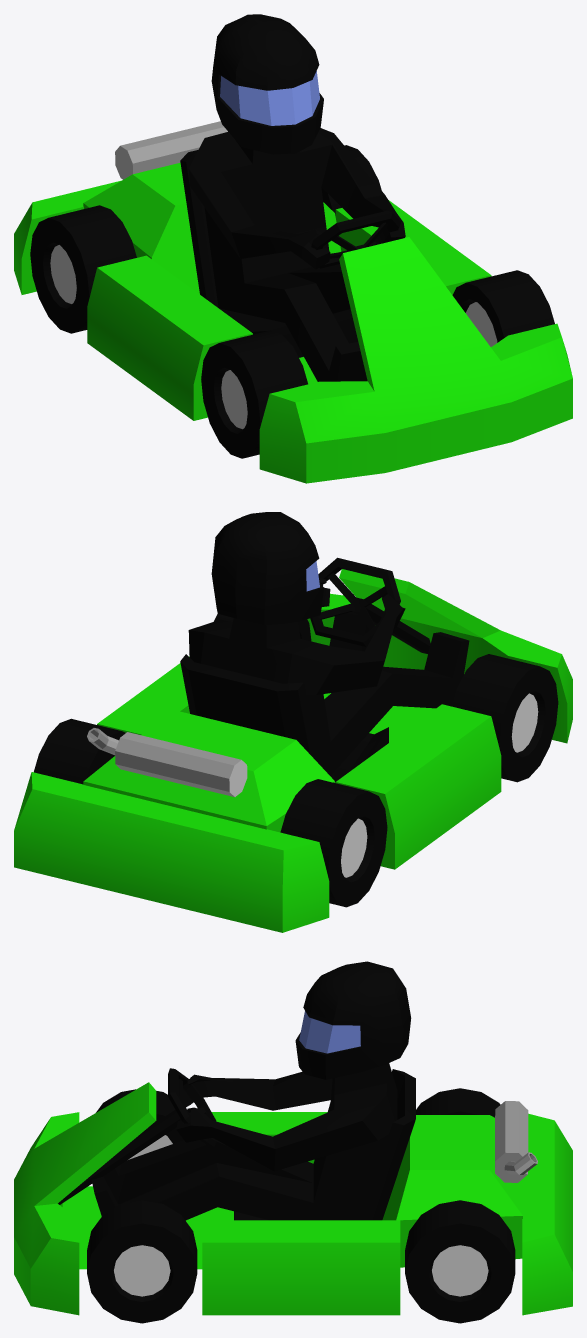
File: Go_Kart.gltf
The picture shows the model from 3 angles, top to bottom: view 1: azimuth 30°, elevation 25°; view 2: azimuth 150°, elevation 25°; view 3: azimuth 270°, elevation 25°; orthographic projection. The views are drawn at different scales.
Parts seen in each view (by area): view 1: car-kart-green; view 2: car-kart-green; view 3: car-kart-green.
Part boxes in pixels (<box>): car-kart-green: <box>14,14,572,483</box>; car-kart-green: <box>14,512,572,932</box>; car-kart-green: <box>14,961,572,1323</box>.
Size of the model in its own units: 0.82 by 0.7848 by 1.39.
